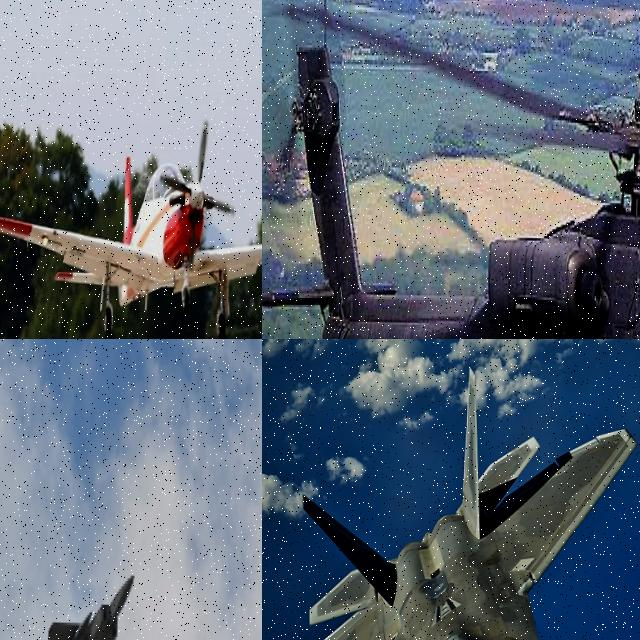Apache: (262, 18, 640, 339)
F22: (262, 364, 636, 640), (37, 571, 135, 640)
KT-1: (0, 121, 262, 339)
